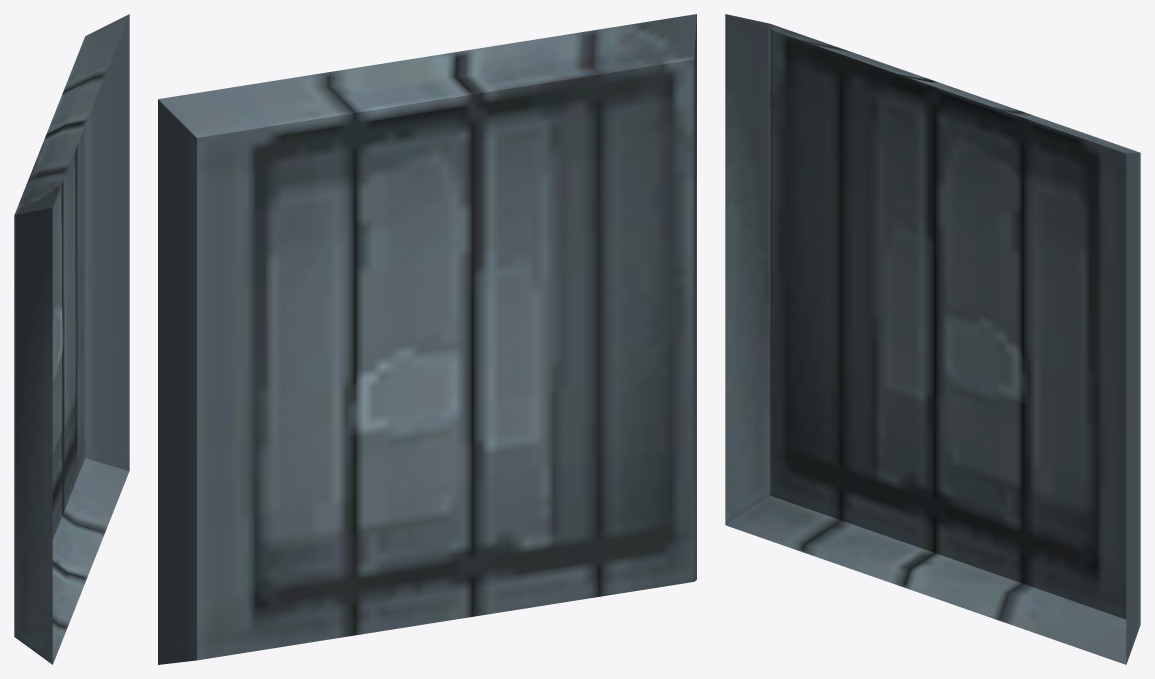
File: Airfield_m7_real.fbx
The picture shows the model from 3 angles, left to right: view 1: azimuth 30°, elevation 25°; view 2: azimuth 150°, elevation 25°; view 3: azimuth 270°, elevation 25°; orthographic projection. The views are drawn at different scales.
Visible parts, largest first — view 1: Porte01; view 2: Porte01; view 3: Porte01.
Boxes of the visible parts, <box> form: Porte01: <box>14,14,129,664</box>; Porte01: <box>158,14,696,664</box>; Porte01: <box>725,14,1140,664</box>.
Bounding box in the file's own units: 0.1605 × 0.1884 × 0.2558.
